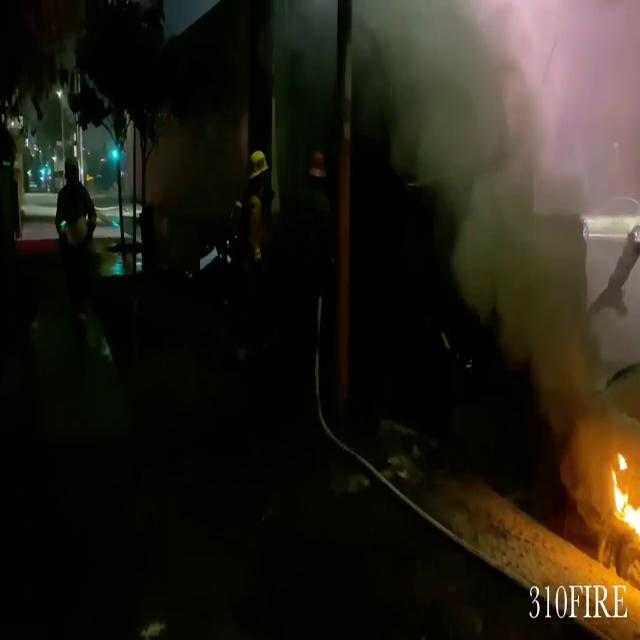Fire: (607, 450, 640, 561)
Smoke: (370, 0, 640, 476)
